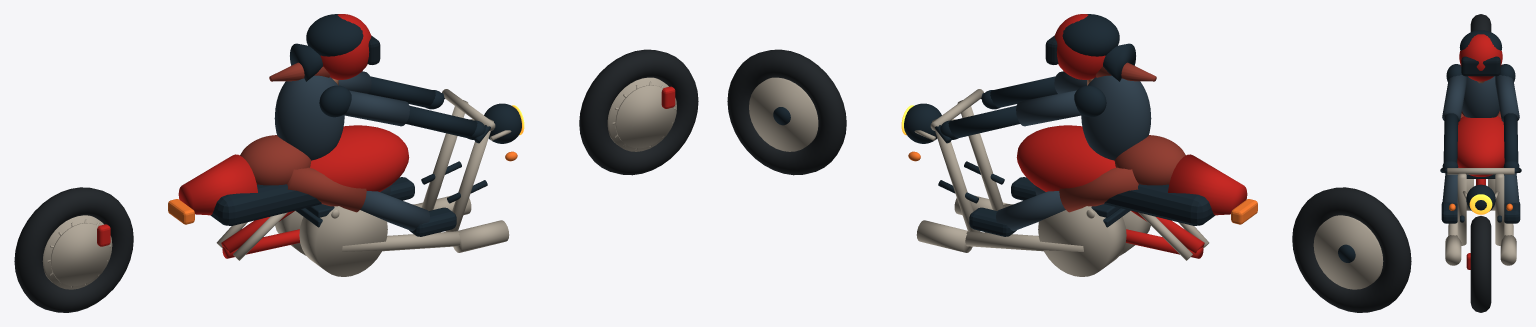
The model's file is apoorva-cafe-rider.glb.
3 views of the same model, side by side, from view 1: azimuth 30°, elevation 25°; view 2: azimuth 150°, elevation 25°; view 3: azimuth 270°, elevation 25° (orthographic). The views are drawn at different scales.
Visible parts, largest first — view 1: Rear wheel tire, Front wheel tire, Fuel tank, Engine case, Rider torso jacket, Front wheel brake disc, Rear wheel brake disc, Cafe seat, Seat cowl, Rider hips, Riding thigh, Helmet crown (+24 smaller); view 2: Rear wheel tire, Front wheel tire, Fuel tank, Engine case opposite, Rider torso jacket, Front wheel rim, Rear wheel rim, Cafe seat, Seat cowl, Rider hips, Riding thigh.001, Helmet crown (+22 smaller); view 3: Fuel tank, Front wheel tire, Rider torso jacket, Rider helmet, Jacket arm, Jacket arm.001, Gloved forearm, Gloved forearm.001, Helmet visor, Front fork, Front fork.001, Left muffler (+20 smaller).
Boxes of the visible parts, x1,y1,x2,y2 form: Rear wheel tire: [14, 187, 133, 312]; Front wheel tire: [579, 49, 698, 175]; Fuel tank: [310, 125, 409, 191]; Engine case: [299, 206, 387, 276]; Rider torso jacket: [274, 75, 344, 160]; Front wheel brake disc: [615, 85, 674, 148]; Rear wheel brake disc: [50, 223, 109, 286]; Cafe seat: [210, 184, 321, 225]; Seat cowl: [178, 154, 257, 215]; Rider hips: [240, 135, 311, 185]; Riding thigh: [287, 167, 366, 212]; Helmet crown: [306, 14, 363, 56]; Rear wheel tire: [1292, 187, 1411, 312]; Front wheel tire: [727, 49, 846, 175]; Fuel tank: [1016, 125, 1115, 191]; Engine case opposite: [1038, 206, 1126, 276]; Rider torso jacket: [1081, 75, 1151, 160]; Front wheel rim: [749, 77, 818, 151]; Rear wheel rim: [1313, 215, 1383, 289]; Cafe seat: [1104, 184, 1215, 225]; Seat cowl: [1168, 154, 1247, 215]; Rider hips: [1114, 135, 1185, 185]; Riding thigh.001: [1059, 167, 1138, 212]; Helmet crown: [1062, 14, 1119, 56]; Fuel tank: [1457, 116, 1504, 176]; Front wheel tire: [1470, 216, 1491, 312]; Rider torso jacket: [1462, 76, 1499, 117]; Rider helmet: [1459, 34, 1502, 81]; Jacket arm: [1442, 75, 1466, 121]; Jacket arm.001: [1495, 75, 1519, 121]; Gloved forearm: [1443, 113, 1458, 162]; Gloved forearm.001: [1503, 113, 1518, 162]; Helmet visor: [1461, 56, 1500, 76]; Front fork: [1457, 173, 1466, 245]; Front fork.001: [1495, 173, 1504, 245]; Left muffler: [1445, 235, 1461, 265].
Size of the model in its own units: 5.83 by 2.01 by 0.8241.
